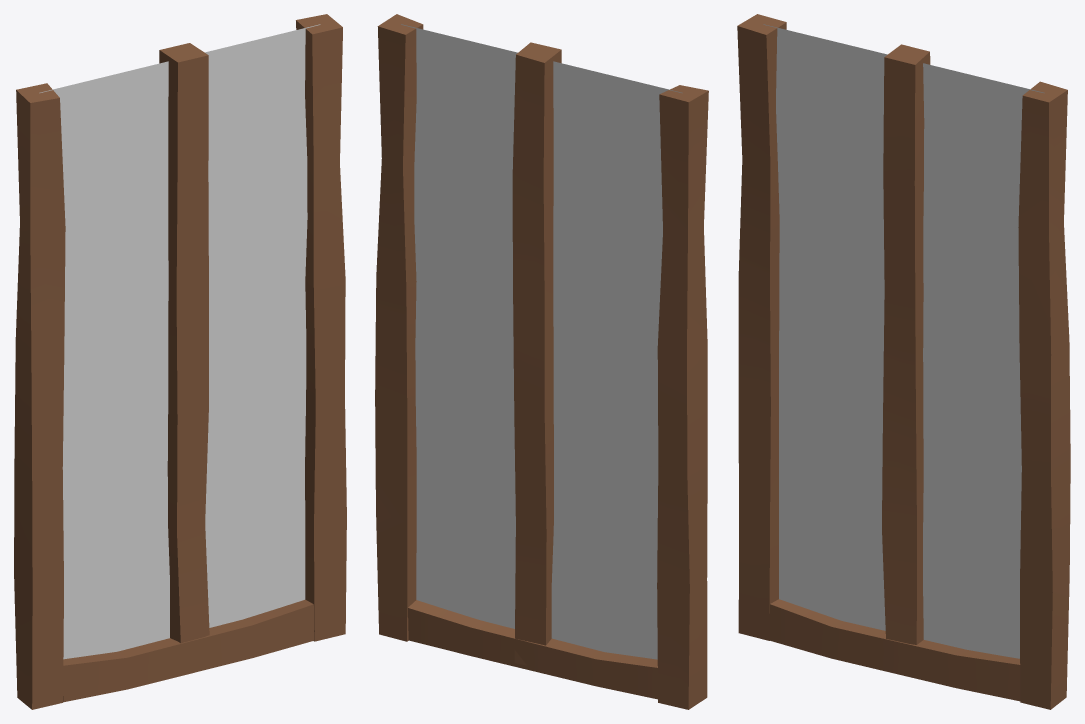
The model's file is PlasterHalfWall1.fbx.
3 views of the same model, side by side, from view 1: azimuth 30°, elevation 25°; view 2: azimuth 150°, elevation 25°; view 3: azimuth 330°, elevation 25° (orthographic).
Parts seen in each view (by area): view 1: PlasterHalfWall1; view 2: PlasterHalfWall1; view 3: PlasterHalfWall1.
Boxes of the visible parts, box(x1,y1,x2,y2) form: PlasterHalfWall1: box(14, 14, 346, 709); PlasterHalfWall1: box(375, 14, 708, 709); PlasterHalfWall1: box(737, 14, 1070, 709).
Bounding box in the file's own units: 112 × 208 × 12.58.
